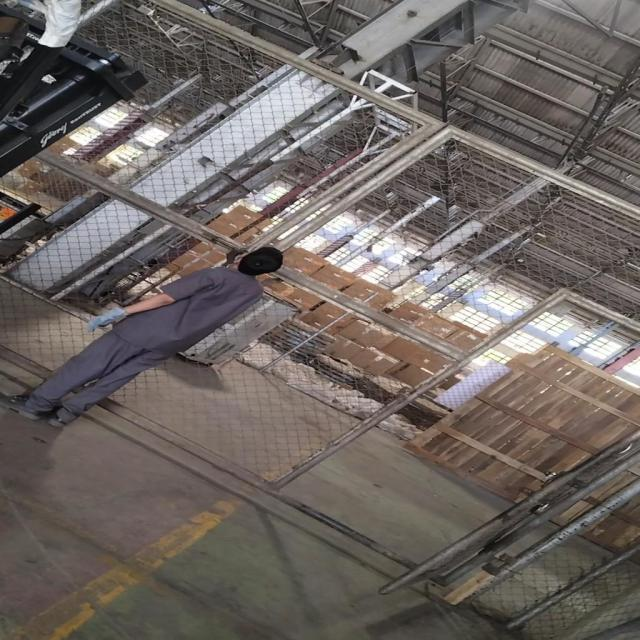Gloves-Detection: (85, 302, 134, 332)
